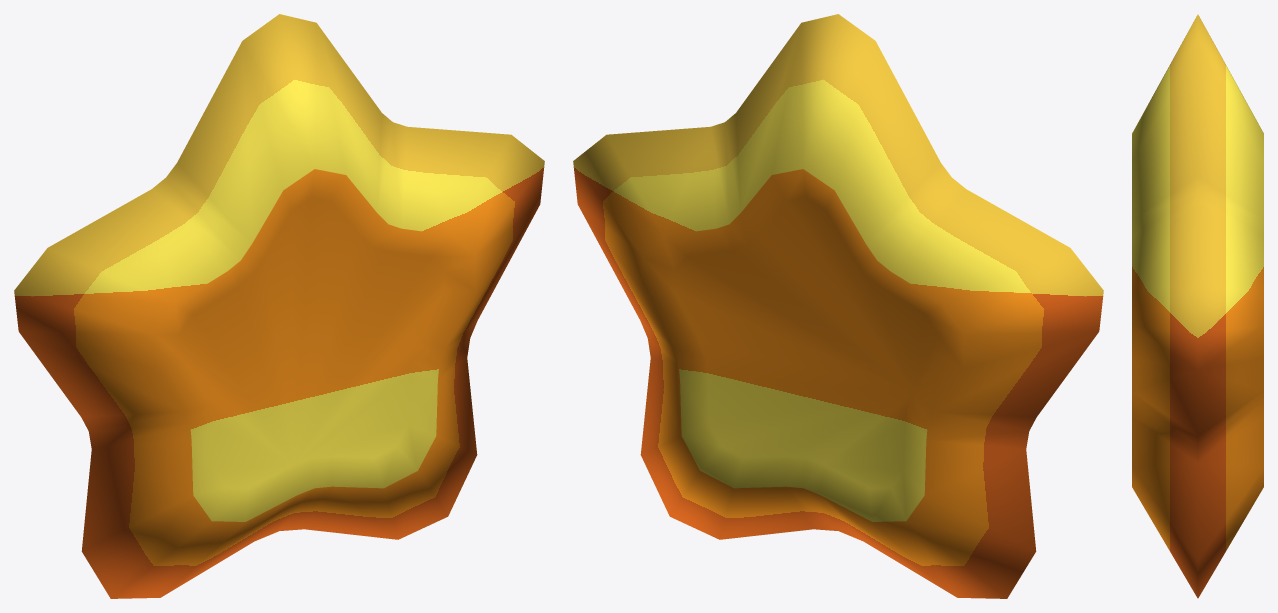
File: PowerUp_00.fbx
3 views of the same model, side by side, from view 1: azimuth 30°, elevation 25°; view 2: azimuth 150°, elevation 25°; view 3: azimuth 270°, elevation 25° (orthographic). The views are drawn at different scales.
Visible parts, largest first — view 1: PowerUp_00; view 2: PowerUp_00; view 3: PowerUp_00.
Part boxes in pixels (x1,y1,x2,y2): PowerUp_00: [14, 14, 544, 598]; PowerUp_00: [573, 14, 1103, 598]; PowerUp_00: [1132, 14, 1263, 598].
Size of the model in its own units: 0.7818 by 0.781 by 0.18.
